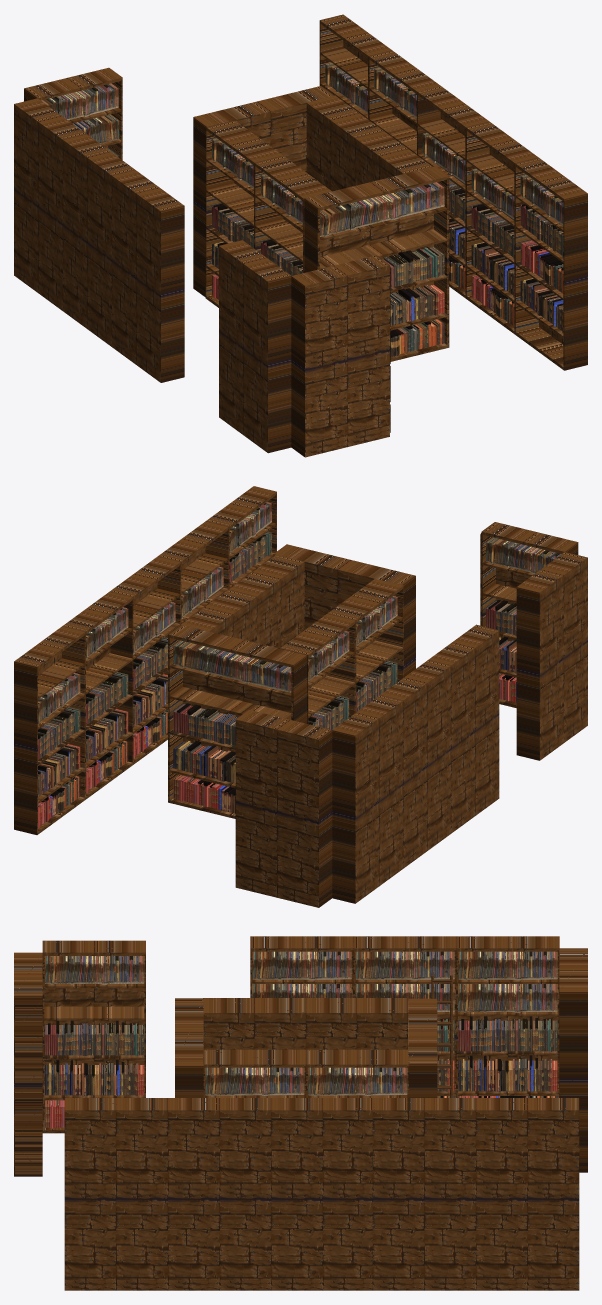
The model's file is Salle_Bibliotheque.fbx.
The picture shows the model from 3 angles, top to bottom: view 1: azimuth 30°, elevation 25°; view 2: azimuth 150°, elevation 25°; view 3: azimuth 270°, elevation 25°; orthographic projection. The views are drawn at different scales.
Parts seen in each view (by area): view 1: Bibliotheque_Milieu, Bibliotheque_Murale, Bibliotheque_coin, Bibliotheque_Coin1; view 2: Bibliotheque_coin, Bibliotheque_Milieu, Bibliotheque_Murale, Bibliotheque_Coin1; view 3: Bibliotheque_Murale, Bibliotheque_coin, Bibliotheque_Milieu, Bibliotheque_Coin1.
Part boxes in pixels (<box>): Bibliotheque_Milieu: <box>193,86,449,361</box>; Bibliotheque_Murale: <box>319,14,587,370</box>; Bibliotheque_coin: <box>14,67,184,382</box>; Bibliotheque_Coin1: <box>219,240,390,457</box>; Bibliotheque_coin: <box>235,624,499,907</box>; Bibliotheque_Milieu: <box>168,544,415,818</box>; Bibliotheque_Murale: <box>14,486,276,834</box>; Bibliotheque_Coin1: <box>480,522,587,760</box>; Bibliotheque_Murale: <box>64,1098,579,1290</box>; Bibliotheque_coin: <box>250,936,587,1172</box>; Bibliotheque_Milieu: <box>175,998,437,1097</box>; Bibliotheque_Coin1: <box>14,940,145,1176</box>.
Bounding box in the file's own units: 762 × 374 × 1062.
